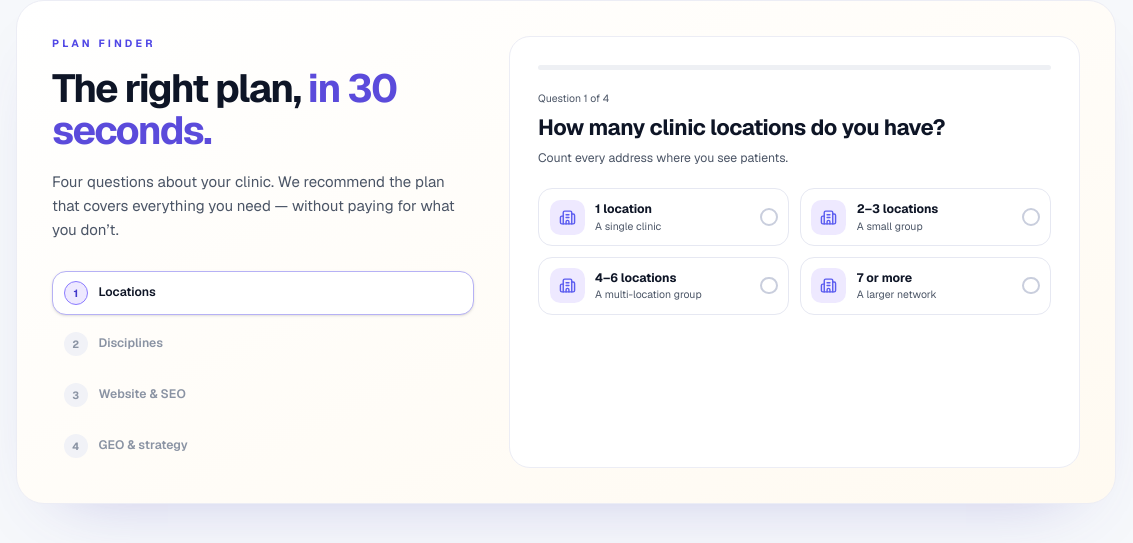
Test: plan finder › goes back and starts over
This screenshot has width=1133, height=543.
Click the radio button labelled "1 location A single clinic": x=664, y=217 [538,188,789,246]
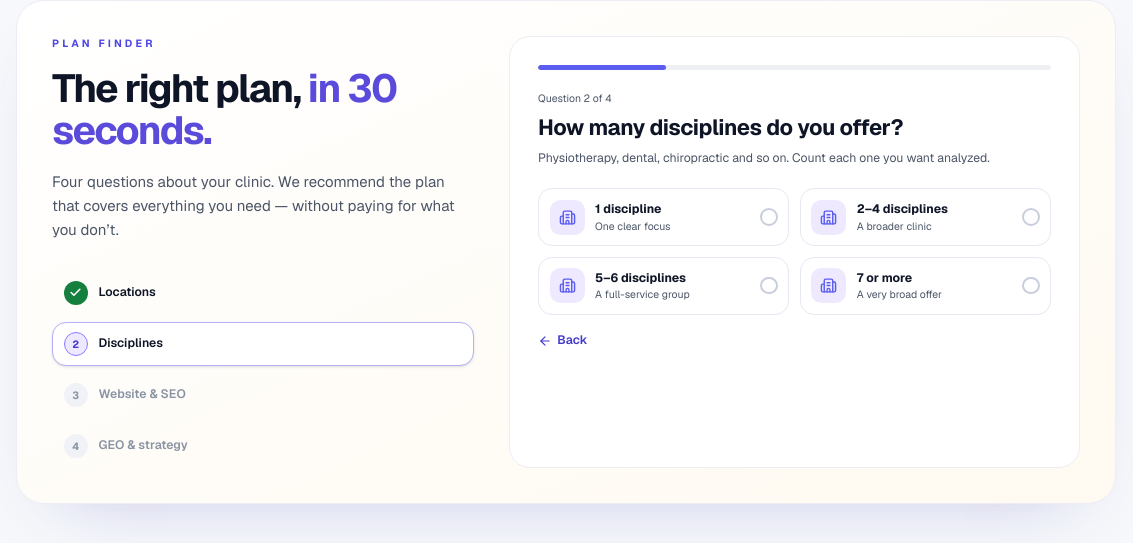
Click the button "Back": x=563, y=341 [538,332,587,350]
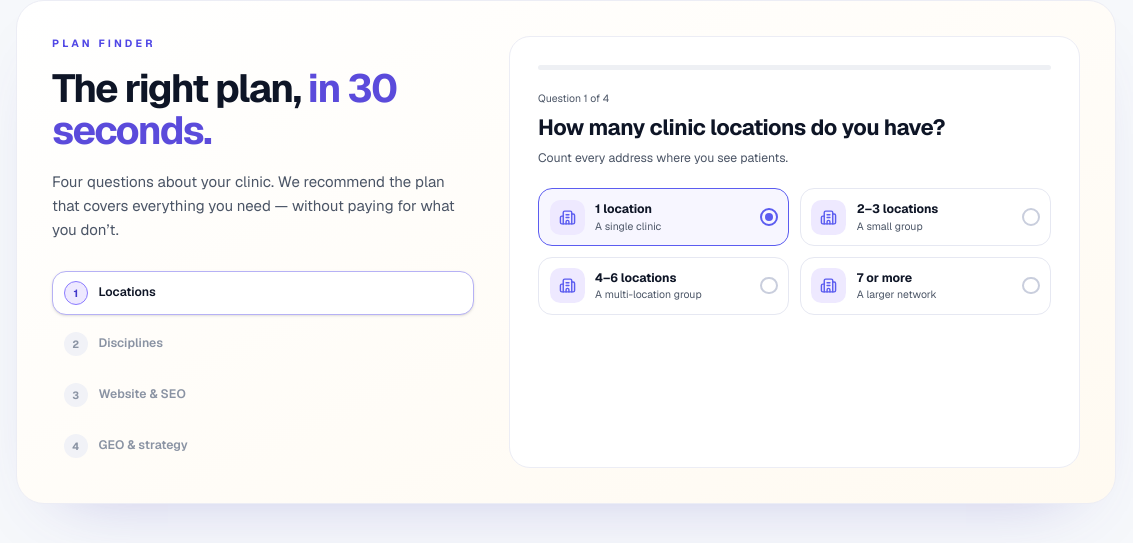
Check: the text "Question 1 of 4" is shown, box [538,91,609,105]
